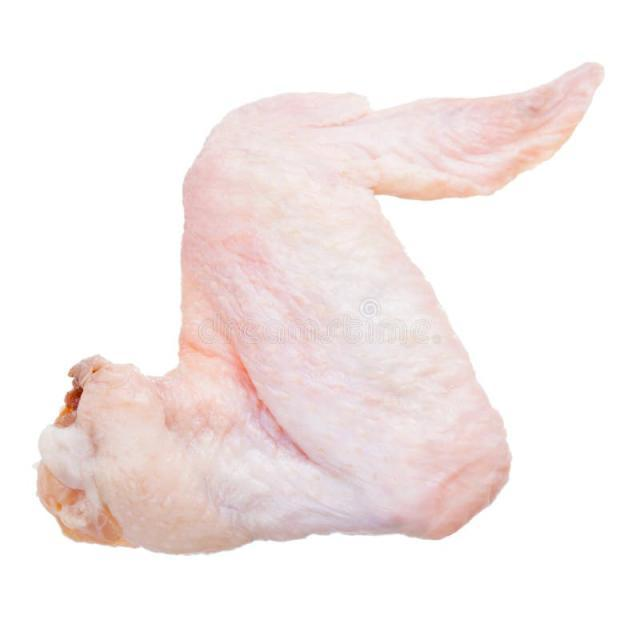wing: (18, 58, 605, 562)
